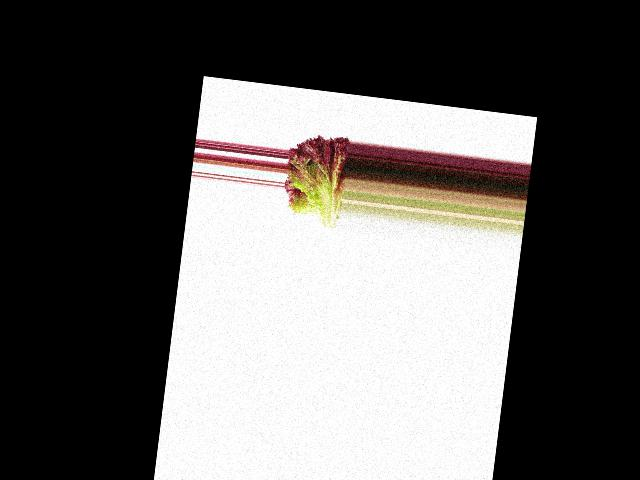lettuce: (281, 125, 351, 232)
